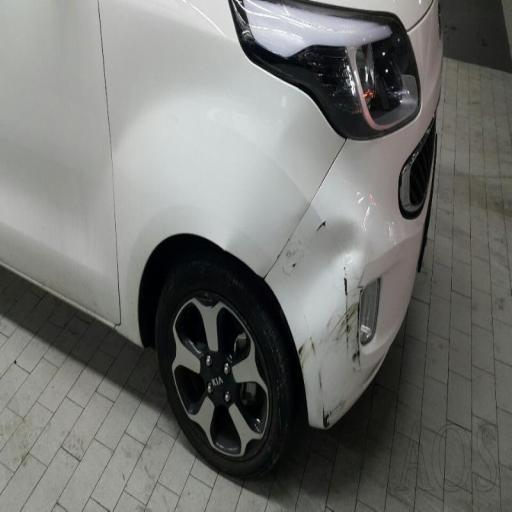scratch: (259, 174, 429, 430)
